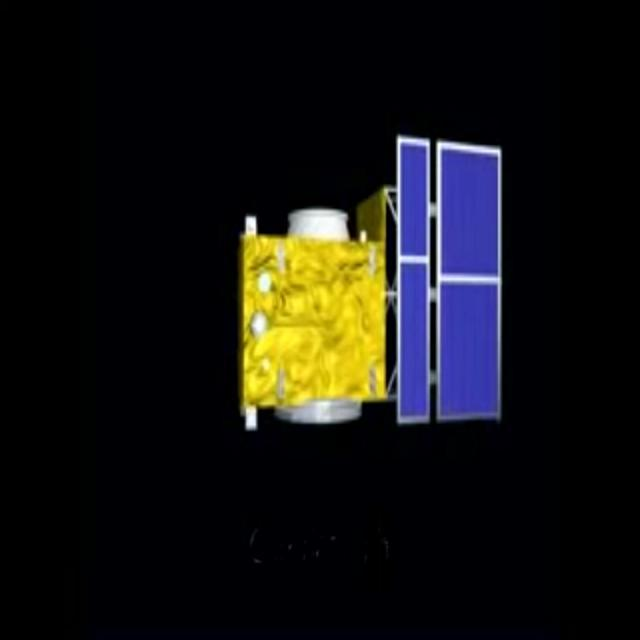sat: (208, 59, 540, 513)
